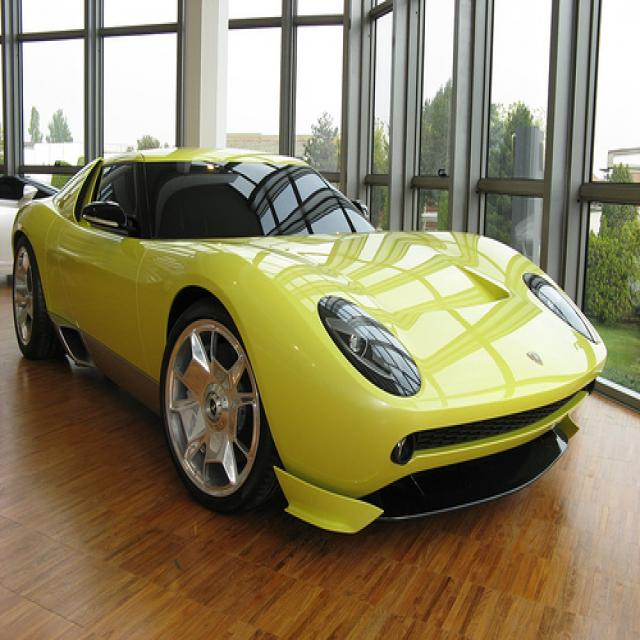Car: (3, 155, 612, 540)
